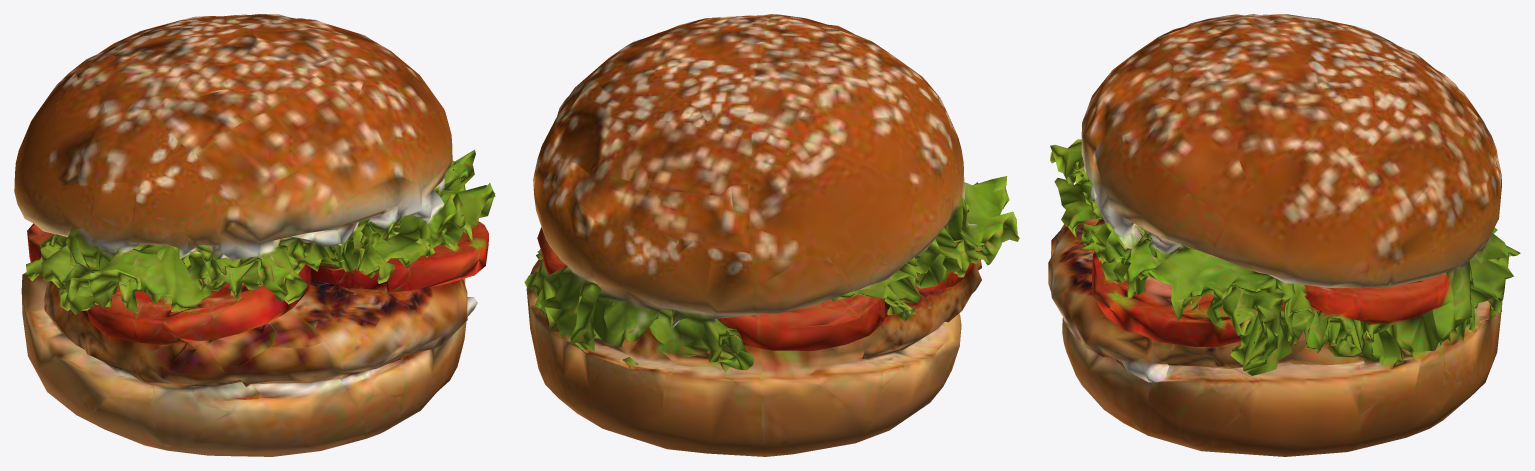
Rendered from chicken-burger.glb.
3 renders of one model, left to right at view 1: azimuth 30°, elevation 25°; view 2: azimuth 150°, elevation 25°; view 3: azimuth 270°, elevation 25°, orthographic. The views are drawn at different scales.
Parts seen in each view (by area): view 1: mesh_node; view 2: mesh_node; view 3: mesh_node.
Part boxes in pixels (<box>): mesh_node: <box>14,14,495,456</box>; mesh_node: <box>524,14,1019,456</box>; mesh_node: <box>1048,14,1520,456</box>.
Bounding box in the file's own units: 0.1694 × 0.1238 × 0.1571.
Materials: 1 (1 with a texture image).
